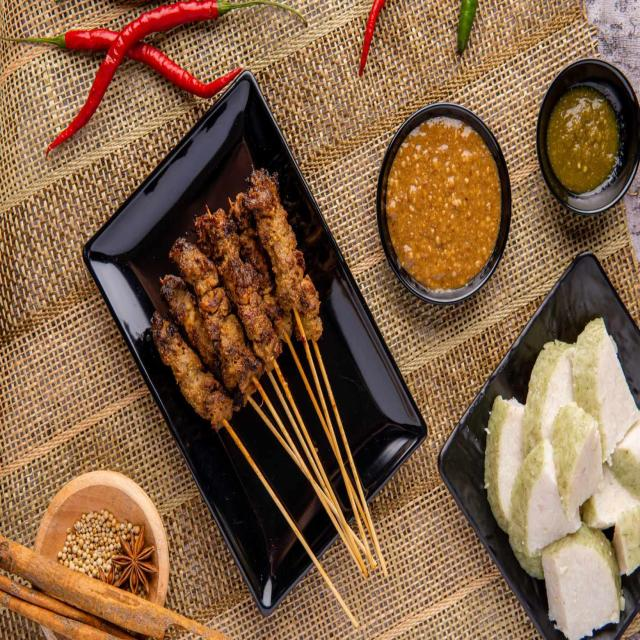Sate: (134, 162, 393, 598)
